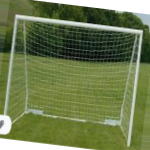goals: (2, 12, 144, 147)
